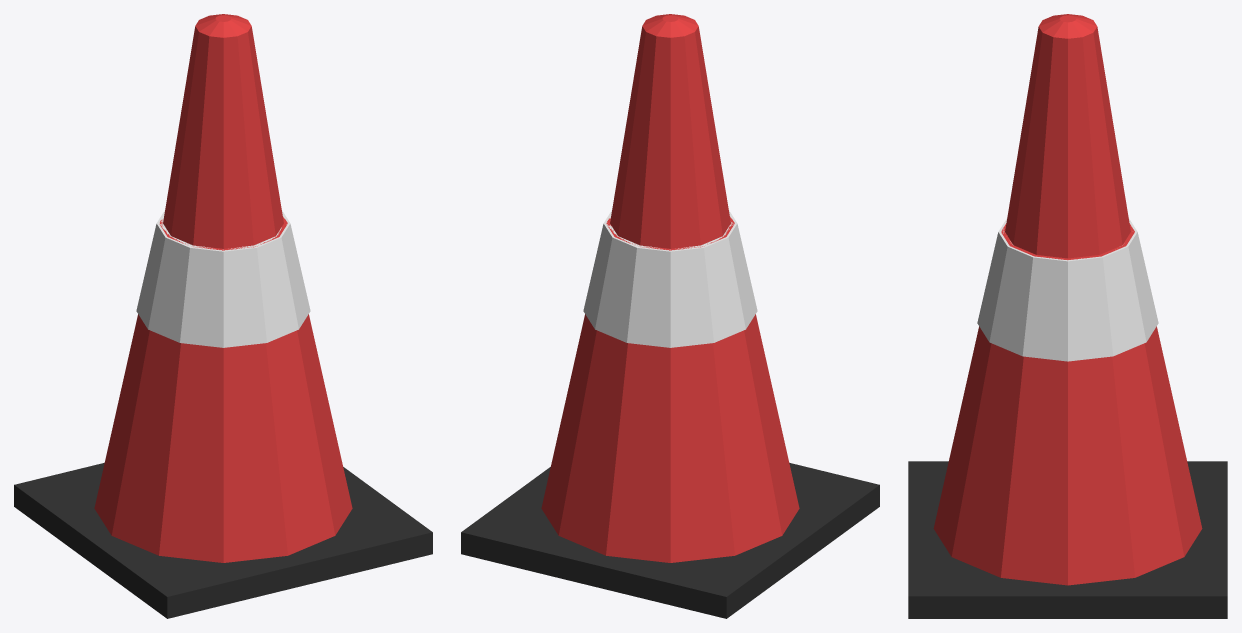
Rendered from cone_traffic.glb.
The picture shows the model from 3 angles, left to right: view 1: azimuth 30°, elevation 25°; view 2: azimuth 150°, elevation 25°; view 3: azimuth 270°, elevation 25°; orthographic projection. The views are drawn at different scales.
Parts seen in each view (by area): view 1: cone_traffic; view 2: cone_traffic; view 3: cone_traffic.
Boxes of the visible parts, x1,y1,x2,y2 form: cone_traffic: (14,14,432,618); cone_traffic: (461,14,879,618); cone_traffic: (908,14,1227,618).
Bounding box in the file's own units: 0.38 × 0.7 × 0.38.
